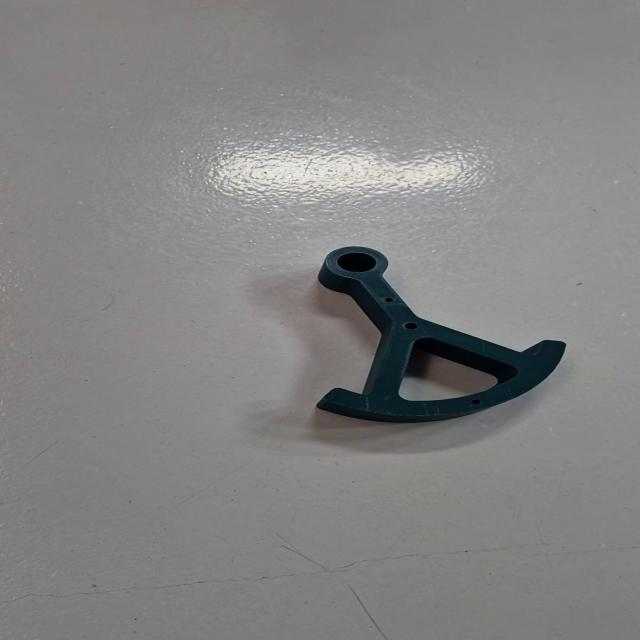haptic: (314, 245, 568, 424)
